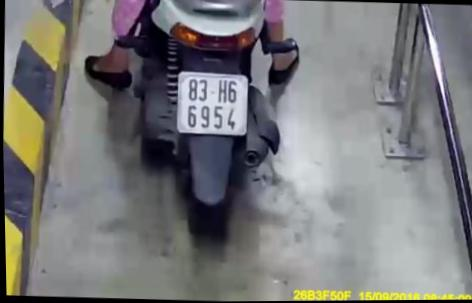LP: (175, 70, 250, 136)
